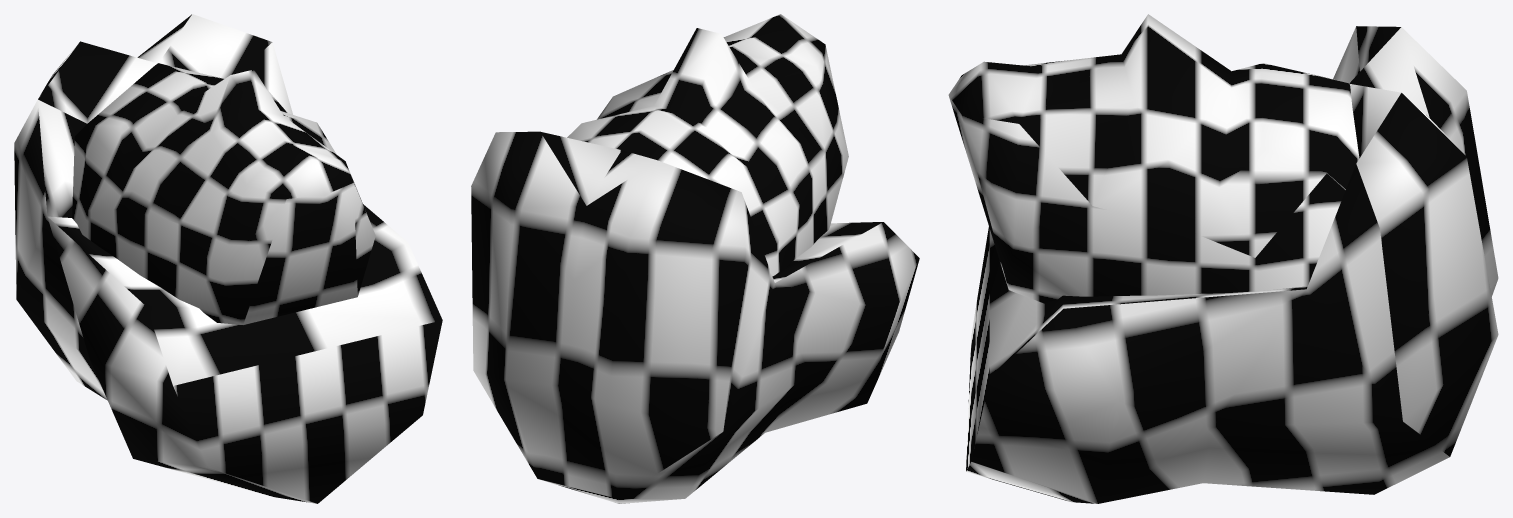
File: infaunhuma9.dae
The picture shows the model from 3 angles, left to right: view 1: azimuth 30°, elevation 25°; view 2: azimuth 150°, elevation 25°; view 3: azimuth 270°, elevation 25°; orthographic projection. The views are drawn at different scales.
Parts seen in each view (by area): view 1: face; view 2: face; view 3: face.
Boxes of the visible parts, x1,y1,x2,y2 form: face: [14, 14, 442, 503]; face: [471, 14, 919, 503]; face: [948, 14, 1498, 503].
Bounding box in the file's own units: 1.2 × 1.44 × 1.39.
1 material, 1 textured.
